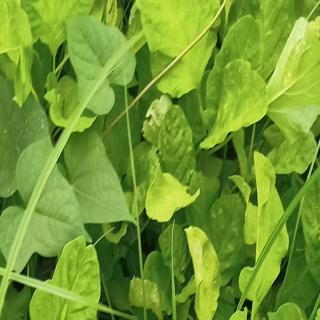virus_keriting: (301, 167, 320, 294)
